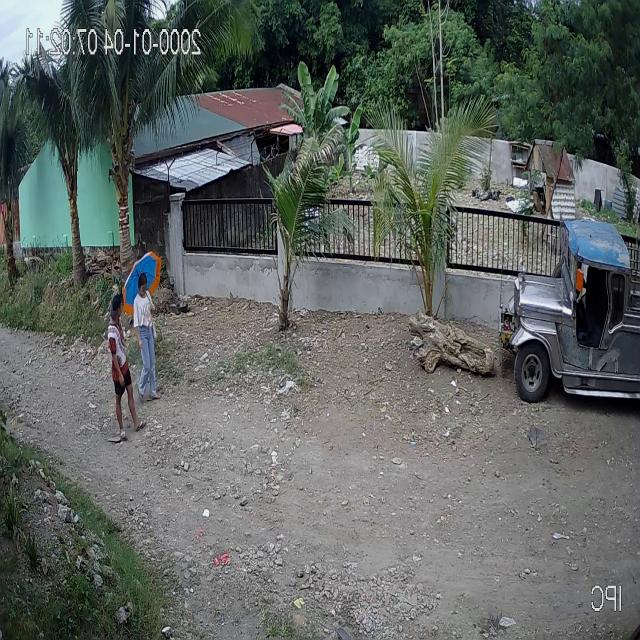walking: (120, 249, 162, 407), (107, 290, 147, 443)
